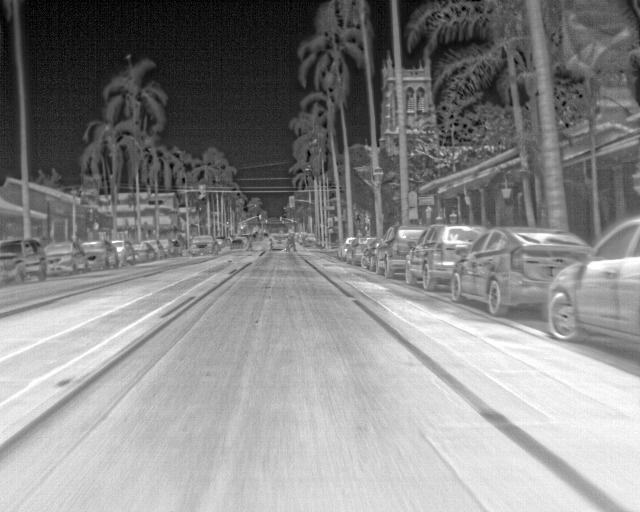bicycle: (449, 226, 594, 316), (545, 213, 639, 344), (405, 222, 490, 291), (373, 224, 433, 274), (0, 238, 47, 285), (42, 240, 87, 276), (81, 240, 118, 270), (350, 233, 377, 262), (360, 237, 381, 269), (188, 235, 221, 255), (110, 240, 133, 263), (130, 242, 154, 264), (145, 239, 167, 260), (337, 236, 355, 260), (268, 234, 289, 254), (158, 237, 175, 256), (229, 235, 248, 250), (170, 239, 185, 257), (303, 234, 317, 249)
